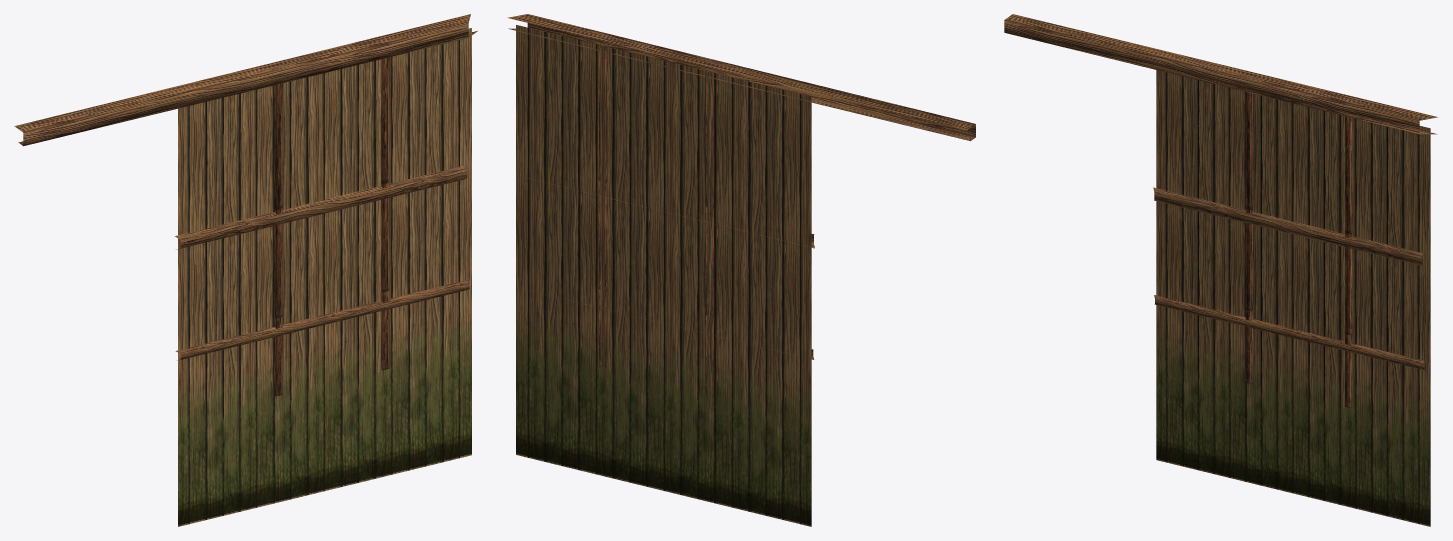
File: LAKETOWN_WAREHOUSE2_PS_WH2_PLATWALL66353__GX.fbx
3 renders of one model, left to right at view 1: azimuth 30°, elevation 25°; view 2: azimuth 150°, elevation 25°; view 3: azimuth 330°, elevation 25°, orthographic. The views are drawn at different scales.
Parts seen in each view (by area): view 1: LAKETOWN_WAREHOUSE2_PS_WH2_PLATWALL66353__GX; view 2: LAKETOWN_WAREHOUSE2_PS_WH2_PLATWALL66353__GX; view 3: LAKETOWN_WAREHOUSE2_PS_WH2_PLATWALL66353__GX.
Part boxes in pixels (left/top/right/bottom): LAKETOWN_WAREHOUSE2_PS_WH2_PLATWALL66353__GX: left=14, top=14, right=477, bottom=526; LAKETOWN_WAREHOUSE2_PS_WH2_PLATWALL66353__GX: left=507, top=14, right=975, bottom=526; LAKETOWN_WAREHOUSE2_PS_WH2_PLATWALL66353__GX: left=1004, top=14, right=1437, bottom=526.
Bounding box in the file's own units: 168886 × 153127 × 5821.
Materials: 5 (5 with a texture image).
